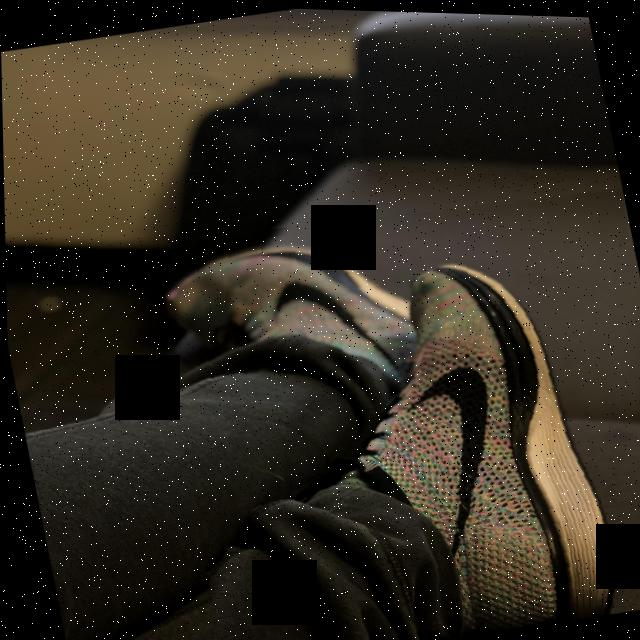shoe: (139, 158, 640, 640)
